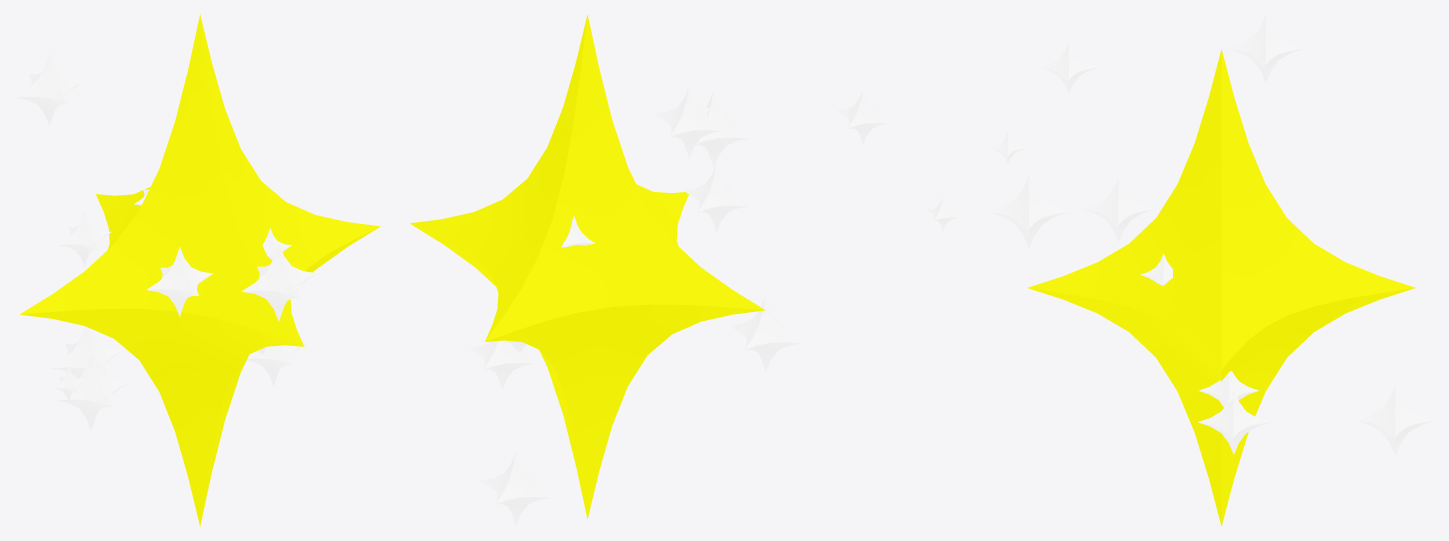
Rendered from icon.gltf.
The picture shows the model from 3 angles, left to right: view 1: azimuth 30°, elevation 25°; view 2: azimuth 150°, elevation 25°; view 3: azimuth 270°, elevation 25°; orthographic projection. The views are drawn at different scales.
Visible parts, largest first — view 1: Star, StardustParticle.005, StardustParticle.011, StardustParticle.006, StardustParticle.012, StardustParticle.002, StardustParticle.015, StardustParticle.008, StardustParticle.003; view 2: Star, StardustParticle.011, StardustParticle.002, StardustParticle.006, StardustParticle.012, StardustParticle.005, StardustParticle.008, StardustParticle.015; view 3: Star, StardustParticle.005, StardustParticle.002, StardustParticle.006, StardustParticle.012, StardustParticle.008, StardustParticle.015, StardustParticle.014.
Boxes of the visible parts, x1,y1,x2,y2 form: Star: (20, 14, 380, 526); StardustParticle.005: (241, 243, 316, 321); StardustParticle.011: (54, 352, 128, 430); StardustParticle.006: (14, 52, 84, 125); StardustParticle.012: (146, 247, 212, 316); StardustParticle.002: (50, 326, 122, 375); StardustParticle.015: (58, 210, 111, 266); StardustParticle.008: (246, 342, 306, 385); StardustParticle.003: (52, 367, 85, 401); Star: (410, 14, 765, 518); StardustParticle.011: (729, 296, 802, 372); StardustParticle.002: (480, 451, 551, 526); StardustParticle.006: (654, 86, 723, 158); StardustParticle.012: (683, 164, 749, 232); StardustParticle.005: (695, 91, 750, 168); StardustParticle.008: (469, 340, 534, 390); StardustParticle.015: (836, 89, 889, 144); Star: (1027, 49, 1415, 526); StardustParticle.005: (988, 175, 1069, 248); StardustParticle.002: (1356, 385, 1434, 455); StardustParticle.006: (1228, 14, 1303, 82); StardustParticle.012: (1083, 176, 1154, 241); StardustParticle.008: (1198, 389, 1269, 454); StardustParticle.015: (1040, 41, 1097, 93); StardustParticle.014: (1199, 370, 1258, 407).
Bounding box in the file's own units: 0.6562 × 0.7251 × 0.614.
